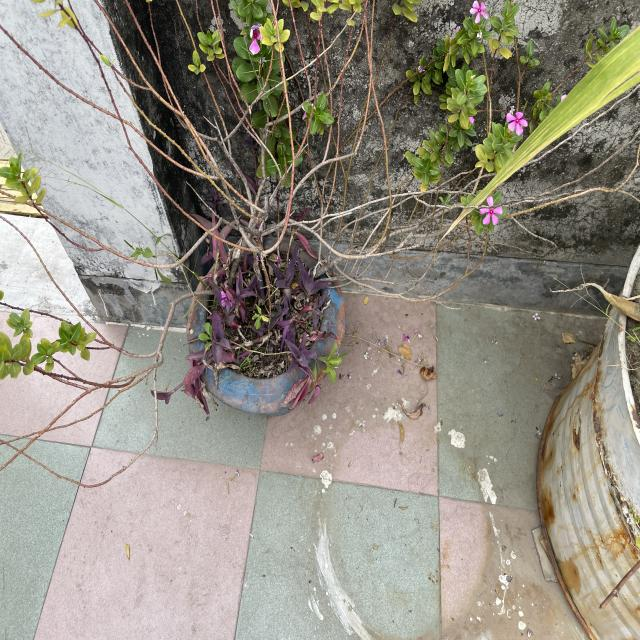Breeding Place: (192, 239, 330, 418)
